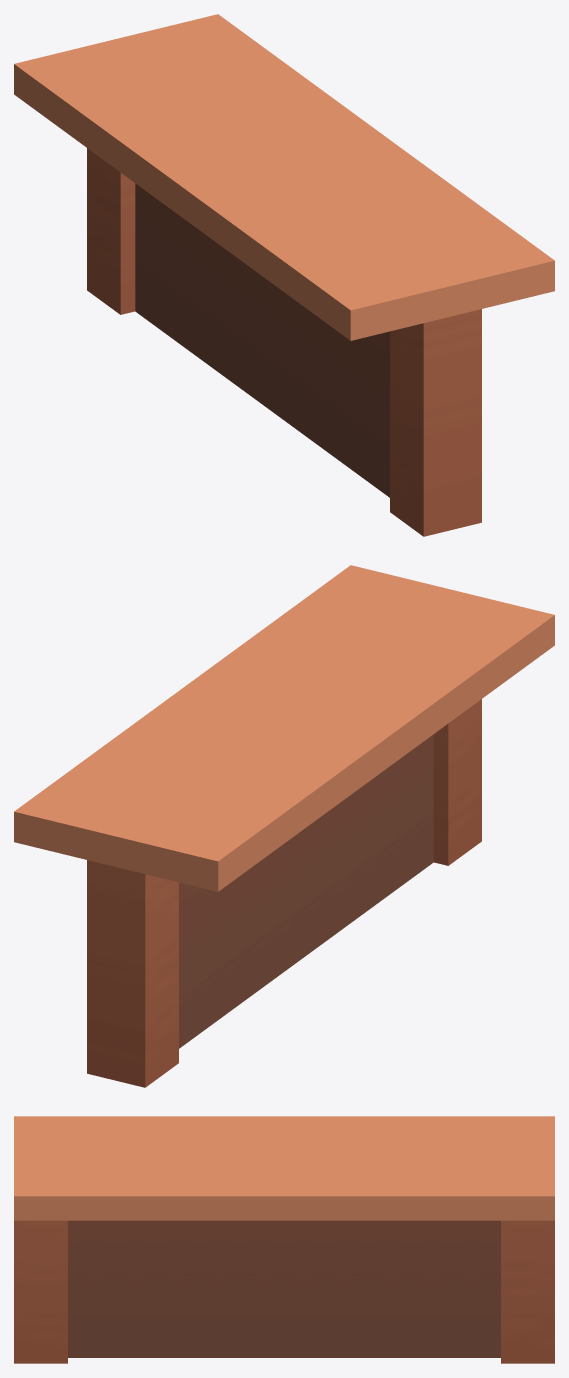
The model's file is bar.fbx.
3 views of the same model, one above another, from view 1: azimuth 30°, elevation 25°; view 2: azimuth 150°, elevation 25°; view 3: azimuth 270°, elevation 25° (orthographic). The views are drawn at different scales.
Parts seen in each view (by area): view 1: bar; view 2: bar; view 3: bar.
Part boxes in pixels (x1=…): bar: x1=14, y1=14, x2=554, y2=536; bar: x1=14, y1=565, x2=554, y2=1087; bar: x1=14, y1=1116, x2=554, y2=1363.
Size of the model in its own units: 0.35 by 1 by 0.4.
